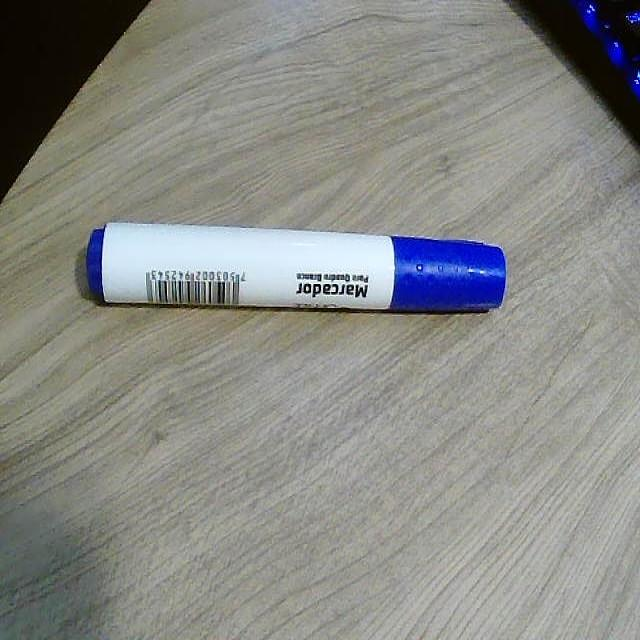caneta: (62, 188, 522, 344)
